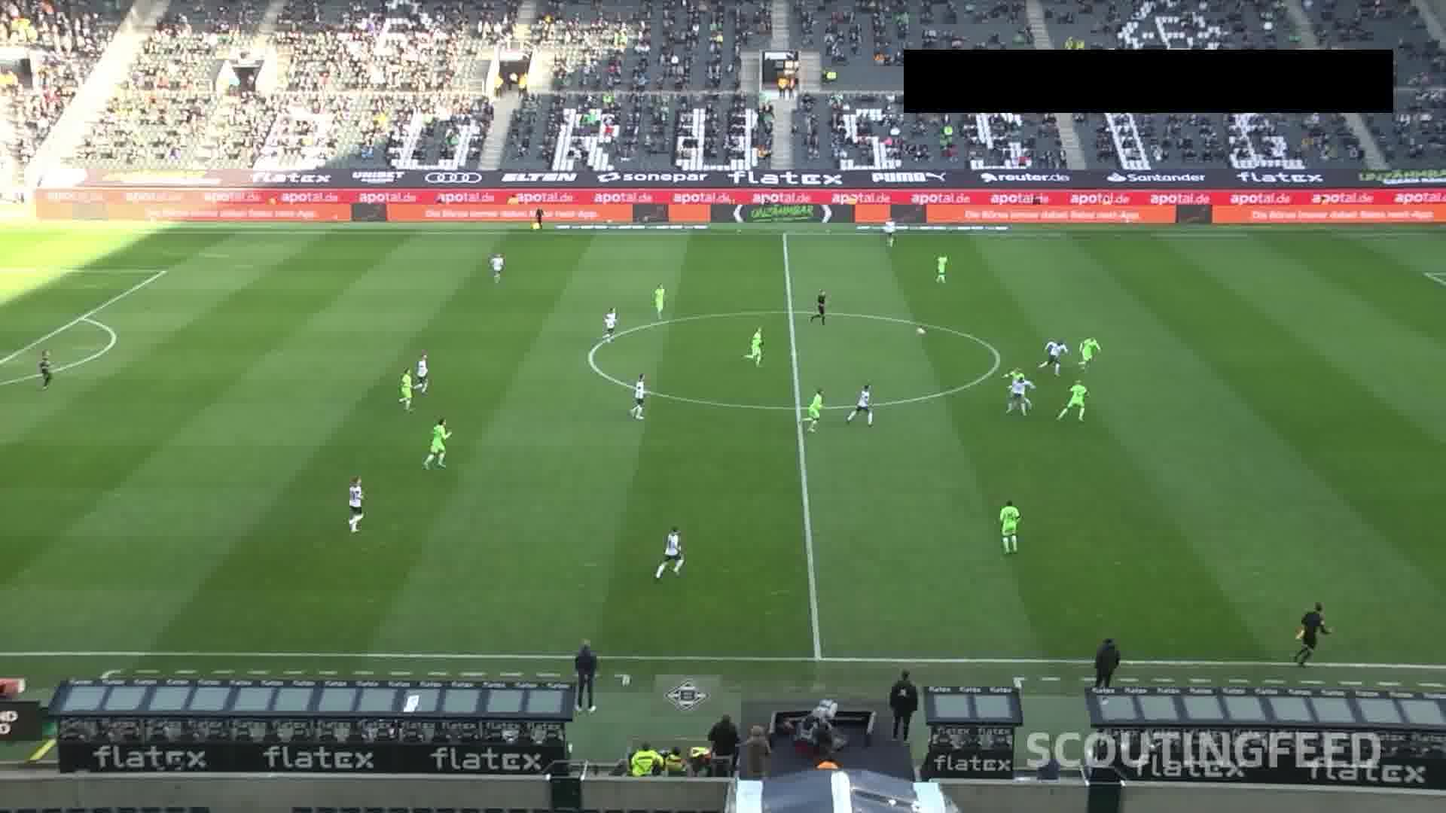ball: (910, 321, 936, 343)
coach_staff: (880, 665, 929, 745), (1078, 631, 1122, 690), (566, 637, 603, 701)
goalkeeper: (29, 343, 62, 394)
player: (649, 514, 692, 582), (983, 498, 1028, 550), (422, 413, 458, 472), (335, 477, 373, 531), (1054, 379, 1092, 427), (742, 326, 772, 373), (847, 380, 877, 427), (801, 385, 828, 434), (623, 368, 646, 425), (1071, 326, 1100, 371), (390, 368, 418, 410), (415, 354, 442, 396), (1003, 365, 1036, 399), (933, 238, 955, 284), (600, 301, 623, 341), (1046, 326, 1063, 374), (488, 253, 511, 284), (877, 221, 904, 246), (651, 284, 673, 314), (1008, 379, 1027, 409)
referee: (1279, 595, 1339, 664), (807, 286, 830, 329), (523, 206, 551, 240)
